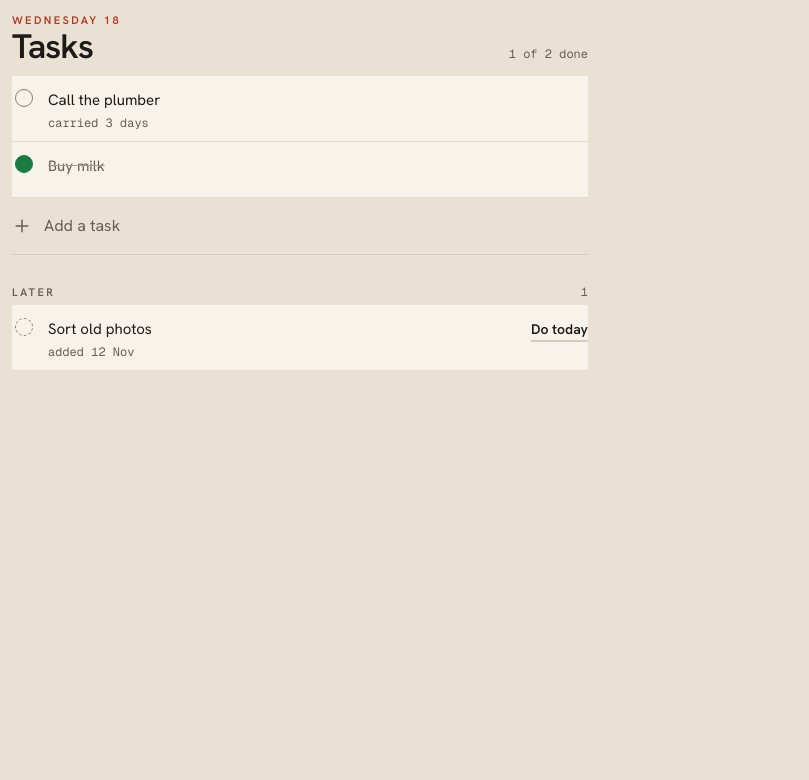
Scenario: TasksPage › deletes from edit mode without a swipe, and Undo shows
Click the button with aria-label "Edit Call the plumber" at (104, 100), box [48,89,588,112]
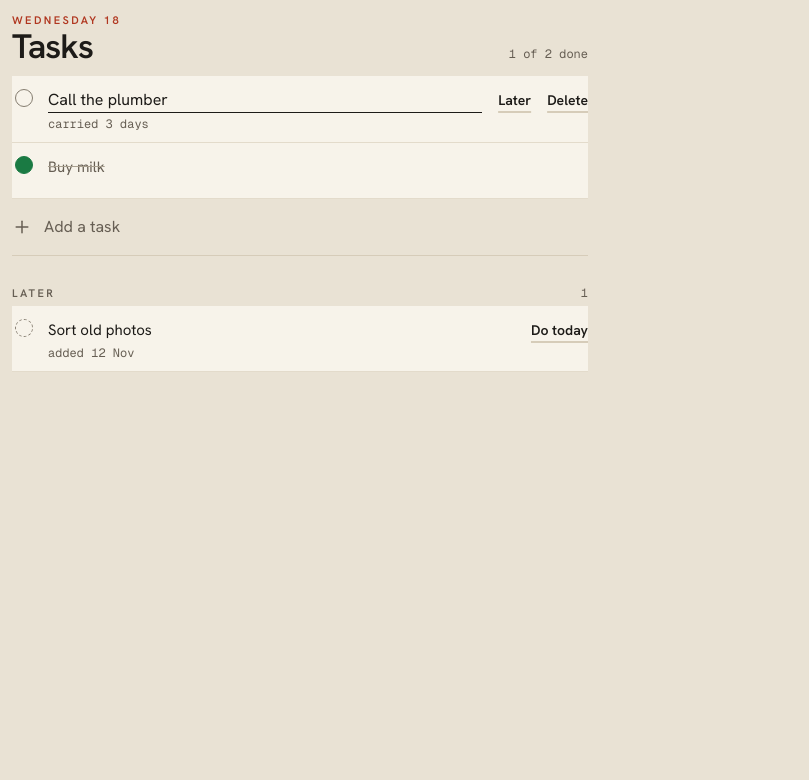
Click the button "Delete" at (568, 101), box [547,79,588,123]
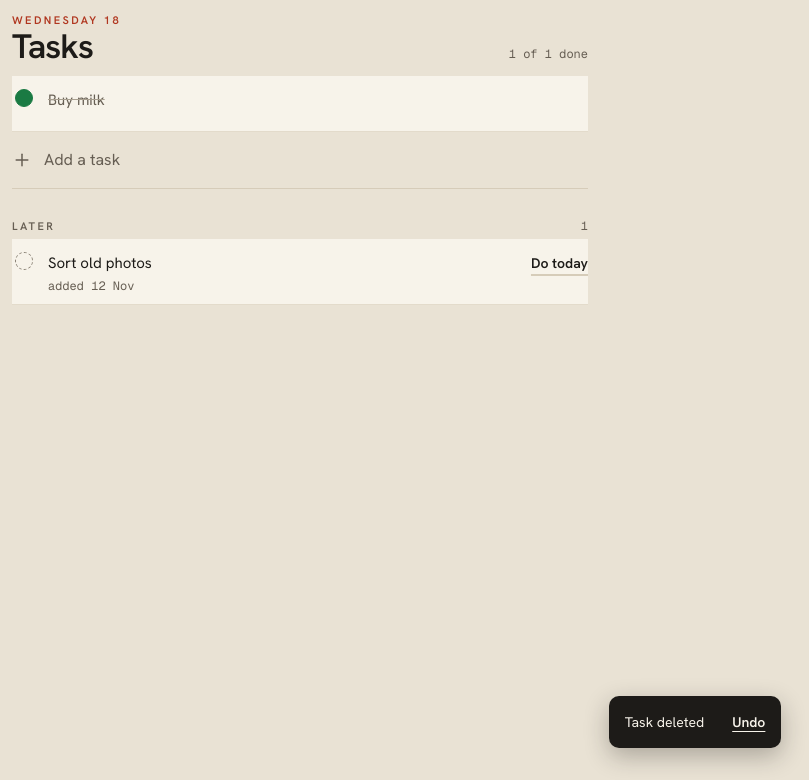
Check: the button "Undo" is shown, box [720,700,777,744]
